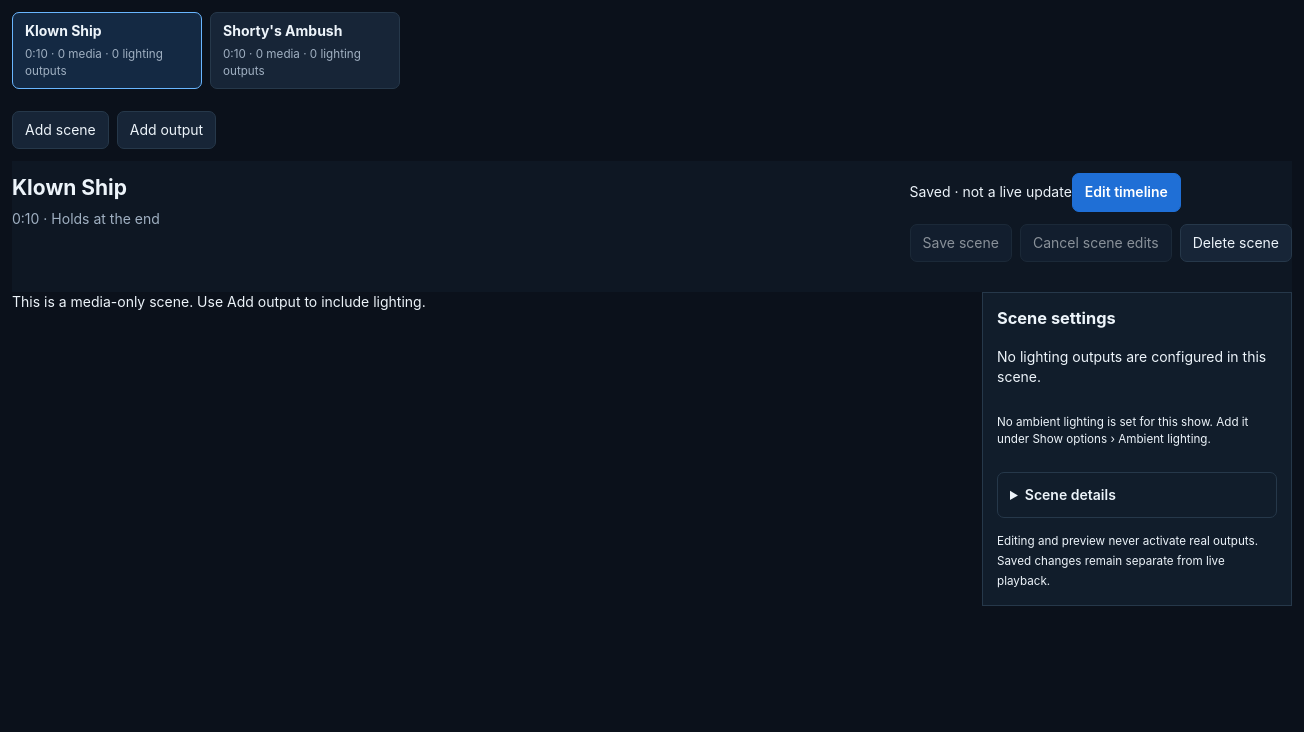
it: shows a refused scene deletion beside the Delete scene button
Click the button "Delete scene" at (1236,243), box left=1180, top=224, right=1292, bottom=262
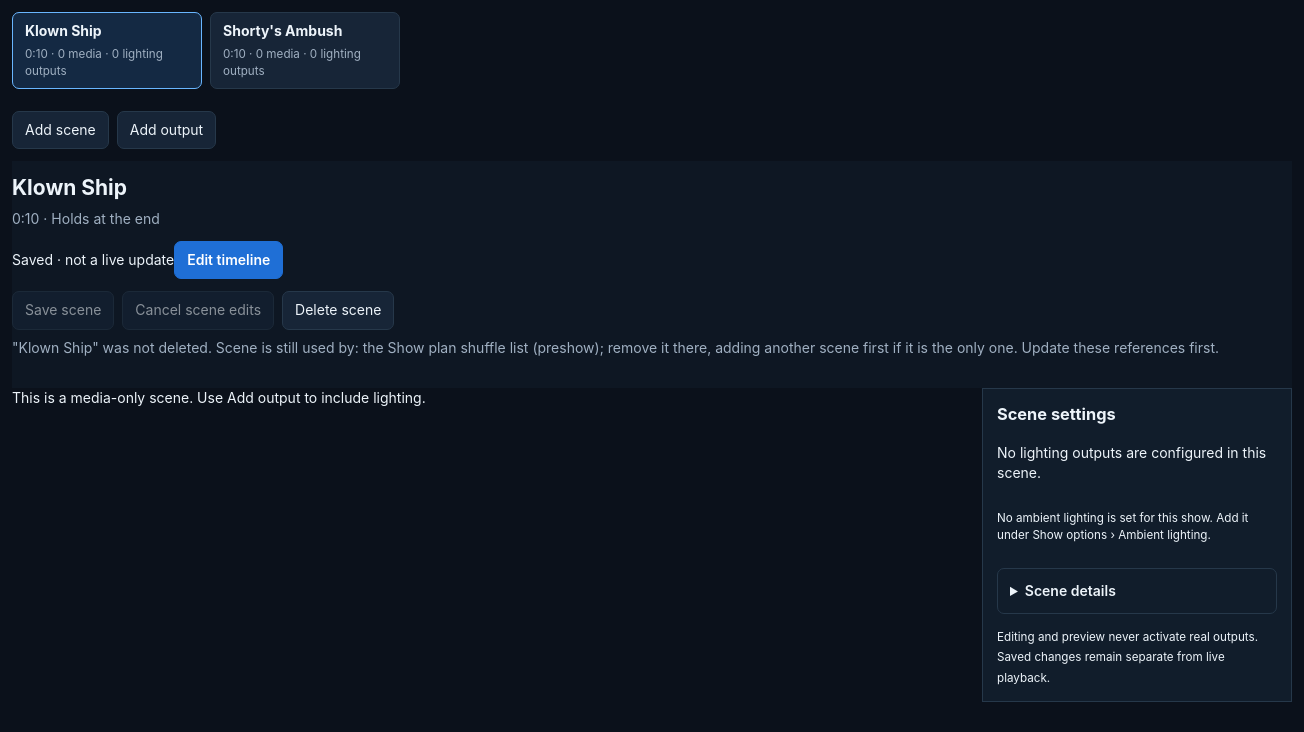
Check: the 2nd message does not show "Cueverge API request failed", box left=12, top=338, right=1292, bottom=358
Check: the 2nd message shows "\"Klown Ship\" was not deleted. Scene is still used by: the Show plan shuffle list (preshow)", box left=12, top=339, right=1219, bottom=356
